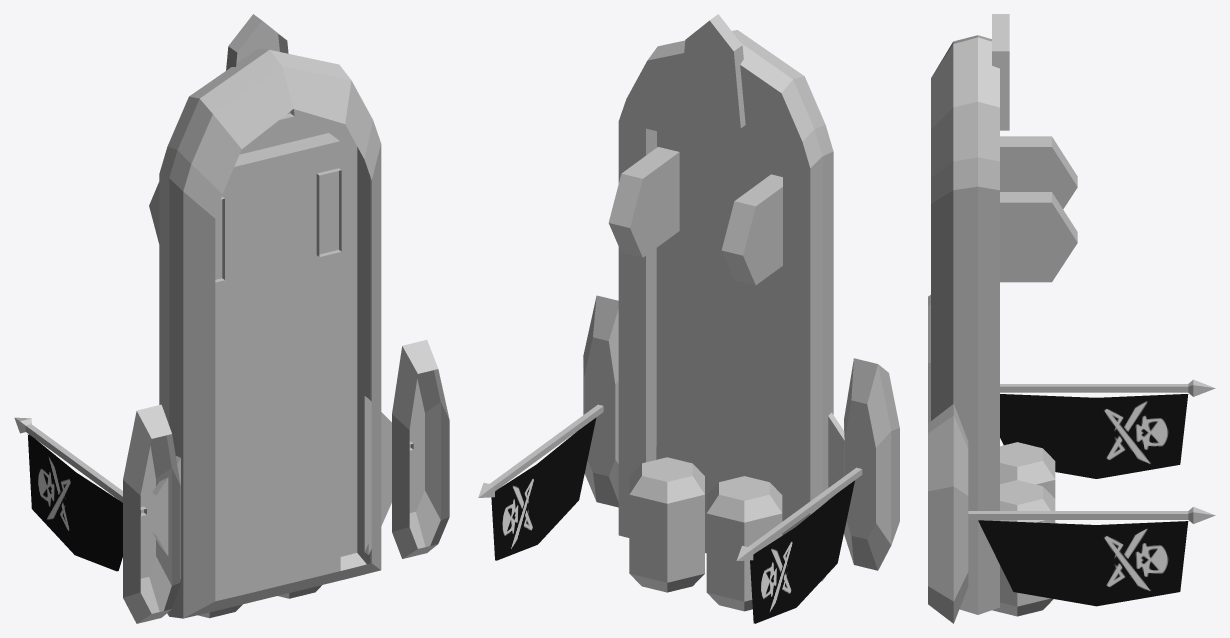
The model's file is gas_my_1_body.fbx.
3 renders of one model, left to right at view 1: azimuth 30°, elevation 25°; view 2: azimuth 150°, elevation 25°; view 3: azimuth 270°, elevation 25°, orthographic. The views are drawn at different scales.
Parts seen in each view (by area): view 1: Cube.431; view 2: Cube.431; view 3: Cube.431.
Part boxes in pixels (box(x1,y1,x2,y2)): Cube.431: box(14, 14, 449, 623); Cube.431: box(478, 14, 899, 623); Cube.431: box(928, 14, 1215, 623).
Bounding box in the file's own units: 427 × 751 × 343.
